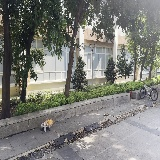fire: (45, 118, 53, 126)
